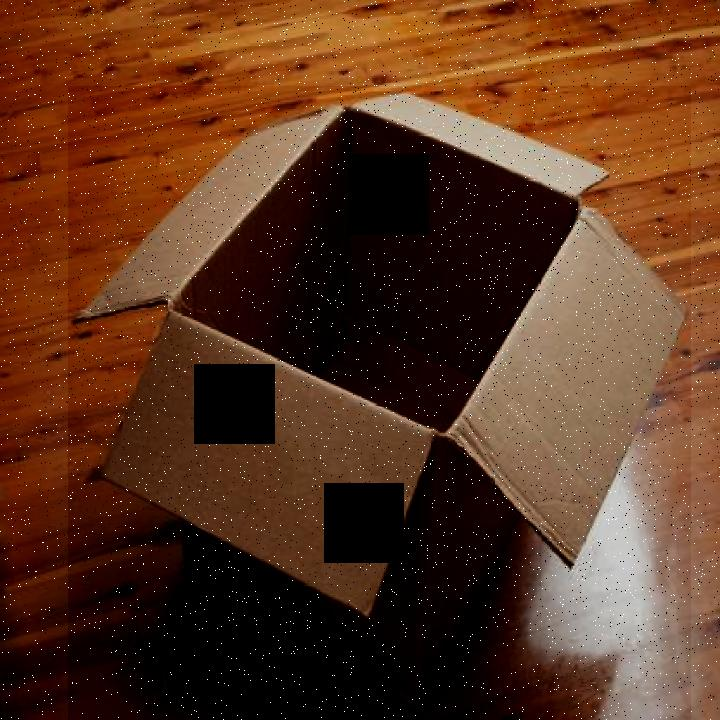box: (68, 86, 691, 720)
